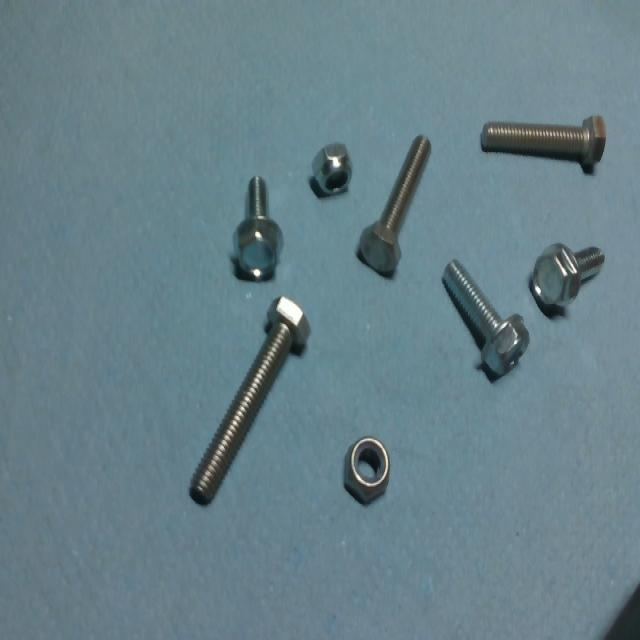Bolt: (188, 297, 310, 507), (355, 136, 432, 277), (441, 260, 529, 380), (480, 116, 606, 168), (528, 243, 605, 316), (232, 179, 281, 283)
Nut: (343, 437, 390, 505), (308, 144, 353, 196)
